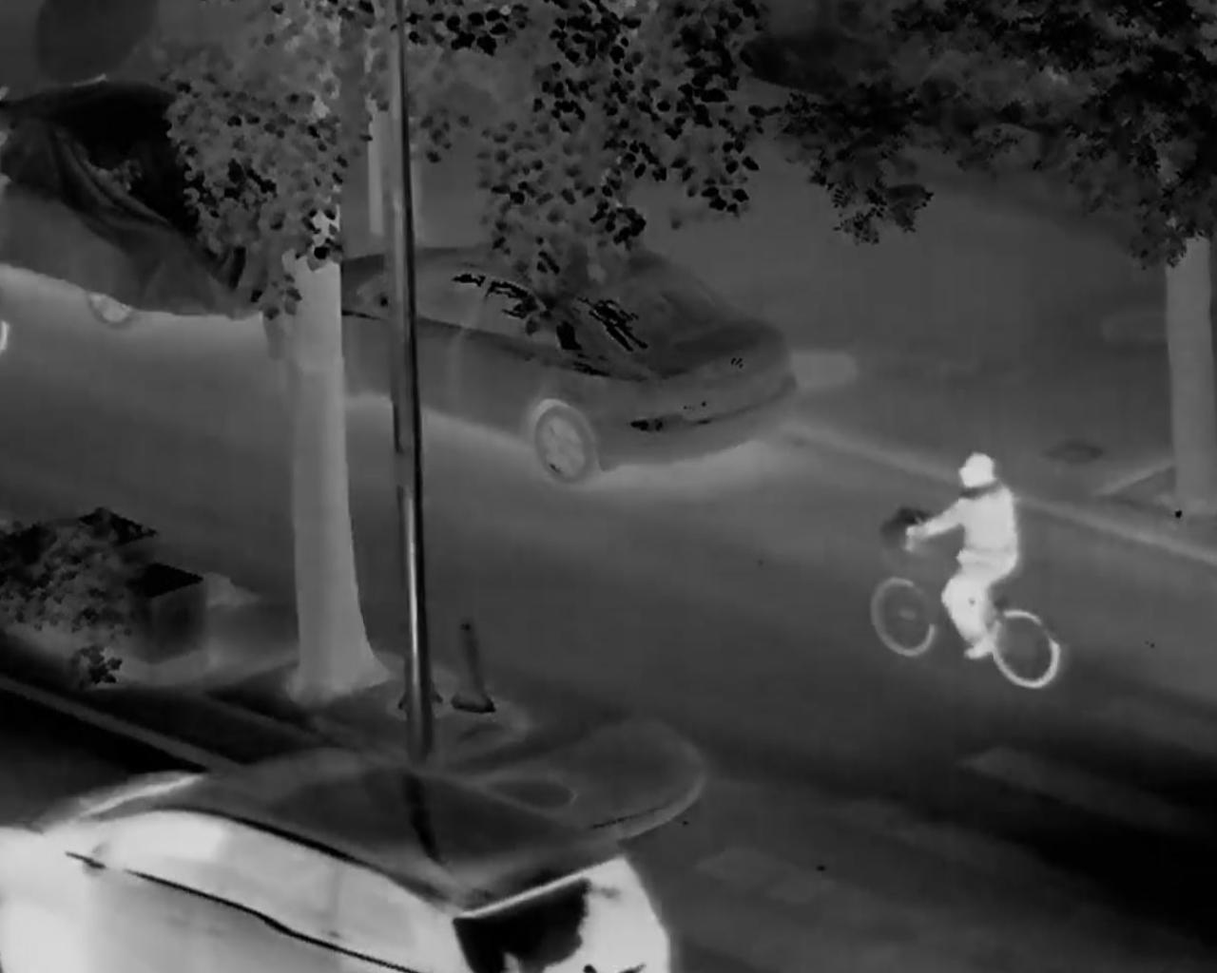person: (908, 452, 1021, 661)
